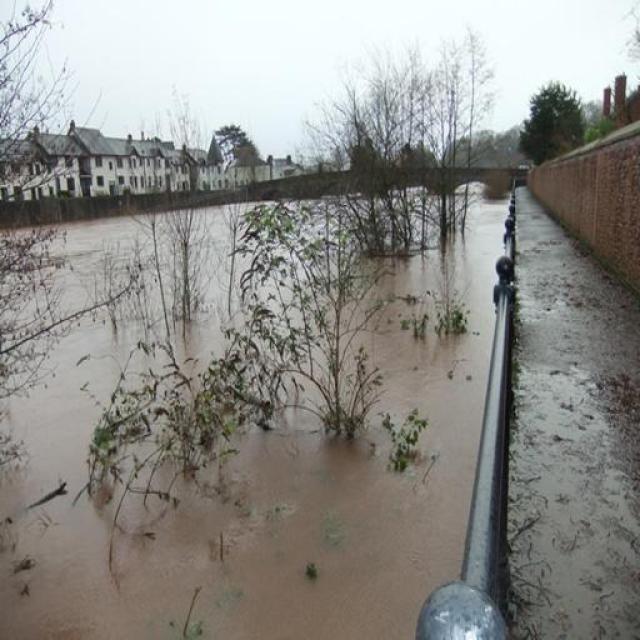puddle: (2, 228, 461, 640)
